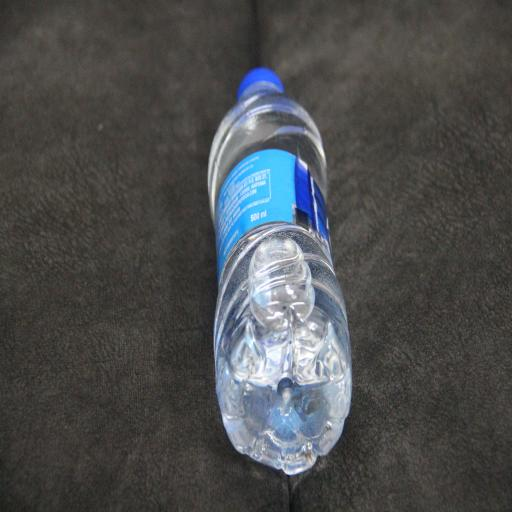Aquafina: (208, 67, 352, 475)
